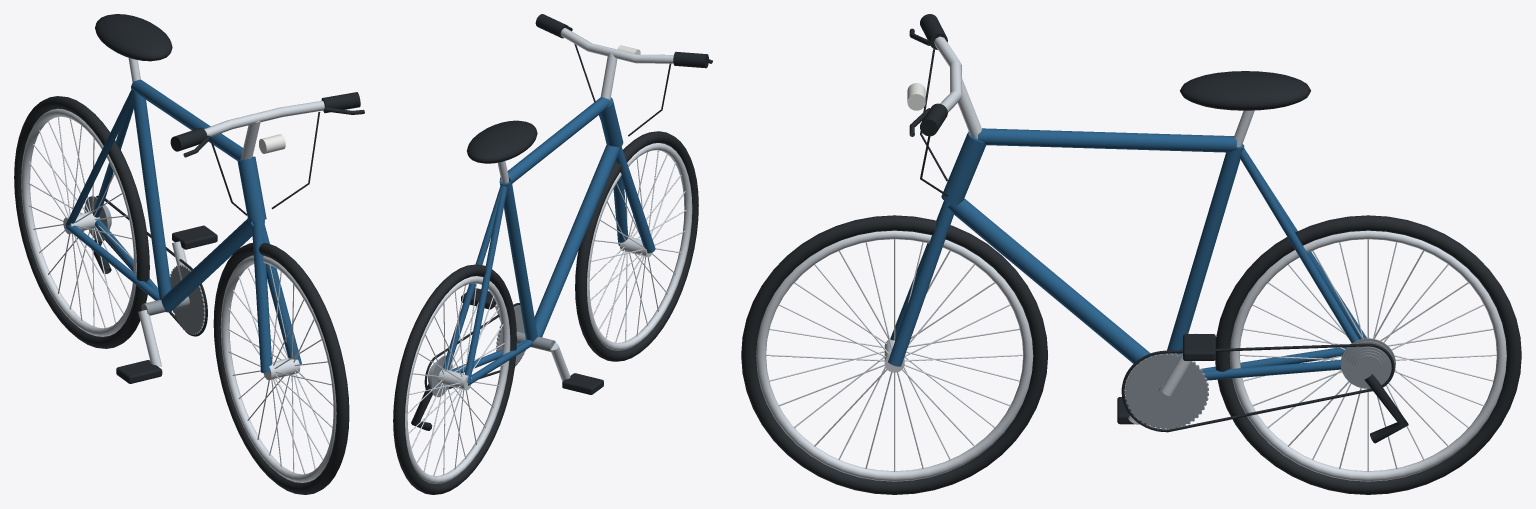
Rendered from innerscene-city-bicycle-angular.glb.
3 renders of one model, left to right at view 1: azimuth 30°, elevation 25°; view 2: azimuth 150°, elevation 25°; view 3: azimuth 270°, elevation 25°, orthographic. The views are drawn at different scales.
Visible parts, largest first — view 1: Front tire, Rear tire, Rear rim, Front rim, Seat tube, Saddle, Down tube, Fork, Top tube, Handlebar, 48 tooth chainring, Fork.001 (+15 smaller); view 2: Rear tire, Front tire, Down tube, Front rim, Rear rim, Saddle, Seat tube, Top tube, Seat stay, Fork, Handlebar, Seat stay.001 (+14 smaller); view 3: Front tire, Rear tire, Front rim, Rear rim, Down tube, 48 tooth chainring, Top tube, Saddle, Seat tube, Fork.001, Seat stay.001, Chain (+6 smaller).
Part boxes in pixels (x1,y1,x2,y2): Front tire: (213,243,349,494); Rear tire: (14,96,149,348); Rear rim: (21,108,136,336); Front rim: (220,255,336,482); Seat tube: (131,86,171,299); Saddle: (95,14,172,61); Down tube: (161,218,264,312); Fork: (252,221,272,372); Top tube: (131,79,242,160); Handlebar: (204,100,324,136); 48 tooth chainring: (170,264,205,334); Fork.001: (260,220,301,364); Rear tire: (393,264,516,494); Front tire: (575,131,698,361); Down tube: (534,145,621,337); Front rim: (587,143,692,350); Rear rim: (405,276,510,483); Saddle: (467,120,537,163); Seat tube: (499,179,537,341); Top tube: (500,97,610,183); Seat stay: (465,183,507,382); Fork: (616,147,655,253); Handlebar: (560,28,673,63); Seat stay.001: (443,182,503,370); Front tire: (741,215,1047,494); Rear tire: (1215,215,1521,494); Front rim: (756,230,1033,481); Rear rim: (1229,230,1506,481); Down tube: (947,198,1150,363); 48 tooth chainring: (1124,353,1208,429); Top tube: (978,128,1236,152); Saddle: (1180,71,1310,110); Seat tube: (1167,144,1244,354); Fork.001: (888,201,953,366); Seat stay.001: (1240,145,1359,343); Chain: (1121,343,1394,432).
Bounding box in the file's own units: 0.5801 × 1.08 × 1.78.
